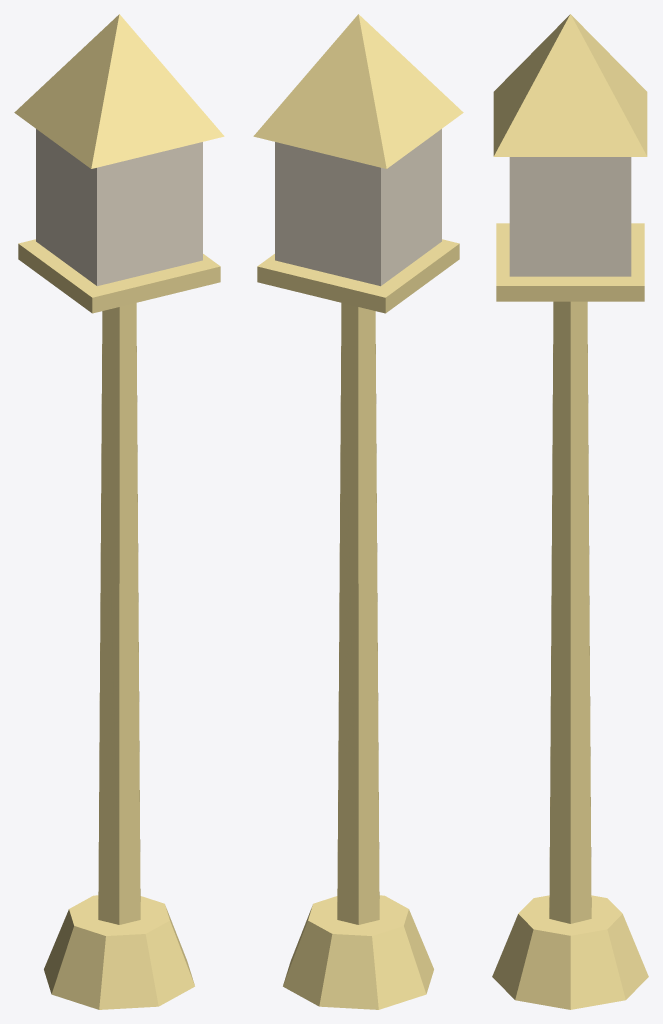
The model's file is deco_street_lamp.obj.
3 renders of one model, left to right at view 1: azimuth 30°, elevation 25°; view 2: azimuth 150°, elevation 25°; view 3: azimuth 270°, elevation 25°, orthographic.
Parts seen in each view (by area): view 1: deco_street_lamp; view 2: deco_street_lamp; view 3: deco_street_lamp.
Boxes of the visible parts, box(x1,y1,x2,y2) form: deco_street_lamp: box(14, 14, 224, 1009); deco_street_lamp: box(253, 14, 463, 1009); deco_street_lamp: box(492, 14, 648, 1009).
Size of the model in its own units: 0.018 by 0.122 by 0.018.
1 material, 1 textured.
